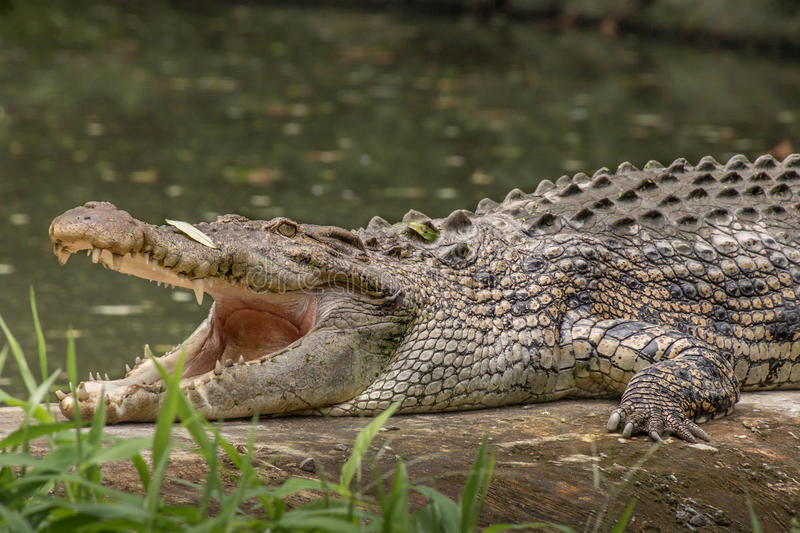Crocodile: (42, 150, 800, 445)
